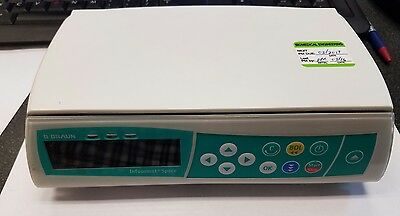BBraun Infusomat Space: (21, 6, 393, 192)
